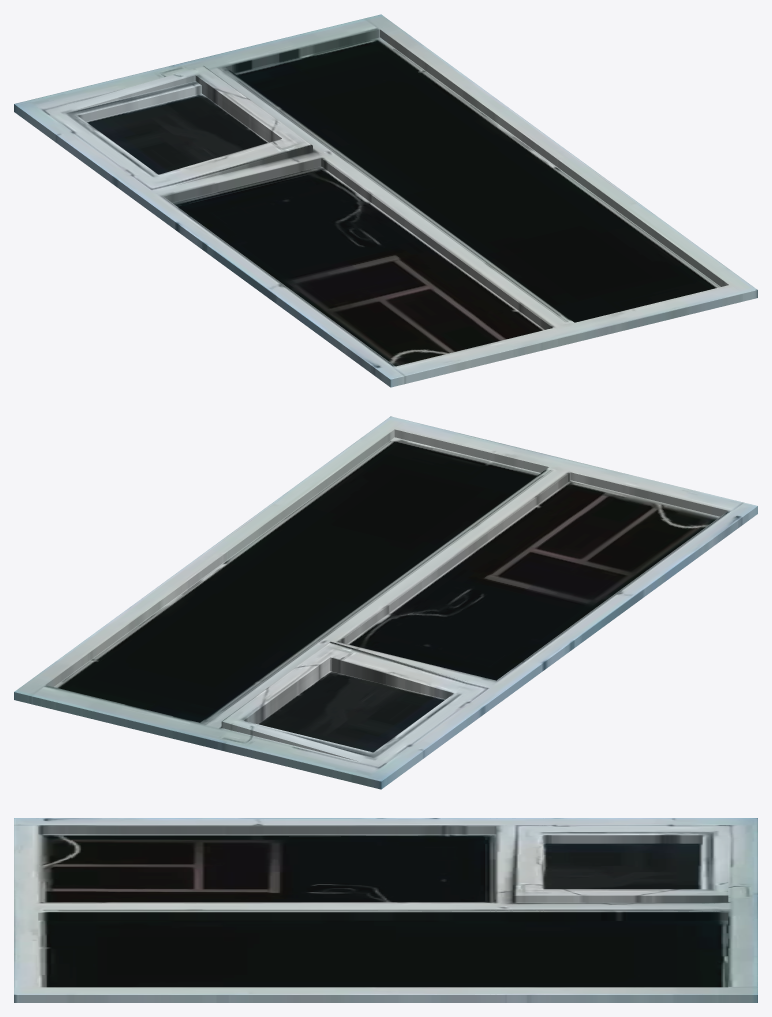
File: Window_03_01.fbx
The picture shows the model from 3 angles, top to bottom: view 1: azimuth 30°, elevation 25°; view 2: azimuth 150°, elevation 25°; view 3: azimuth 270°, elevation 25°; orthographic projection.
Visible parts, largest first — view 1: Window_03_1; view 2: Window_03_1; view 3: Window_03_1.
Boxes of the visible parts, box(x1,y1,x2,y2) form: Window_03_1: box(14, 14, 757, 387); Window_03_1: box(14, 416, 757, 789); Window_03_1: box(14, 818, 757, 1002).
Size of the model in its own units: 0.6855 by 0.0258 by 1.22.
1 material, 1 textured.
